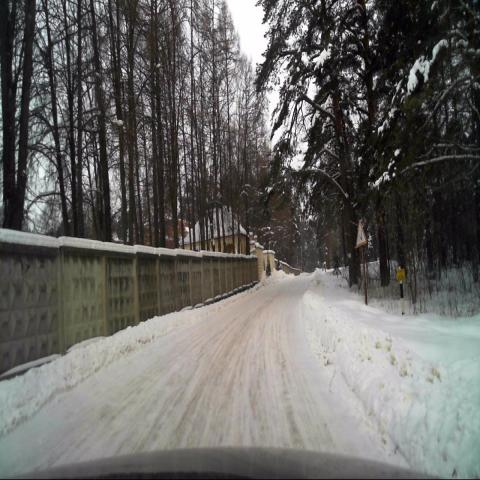1_12: (355, 220, 367, 249)
